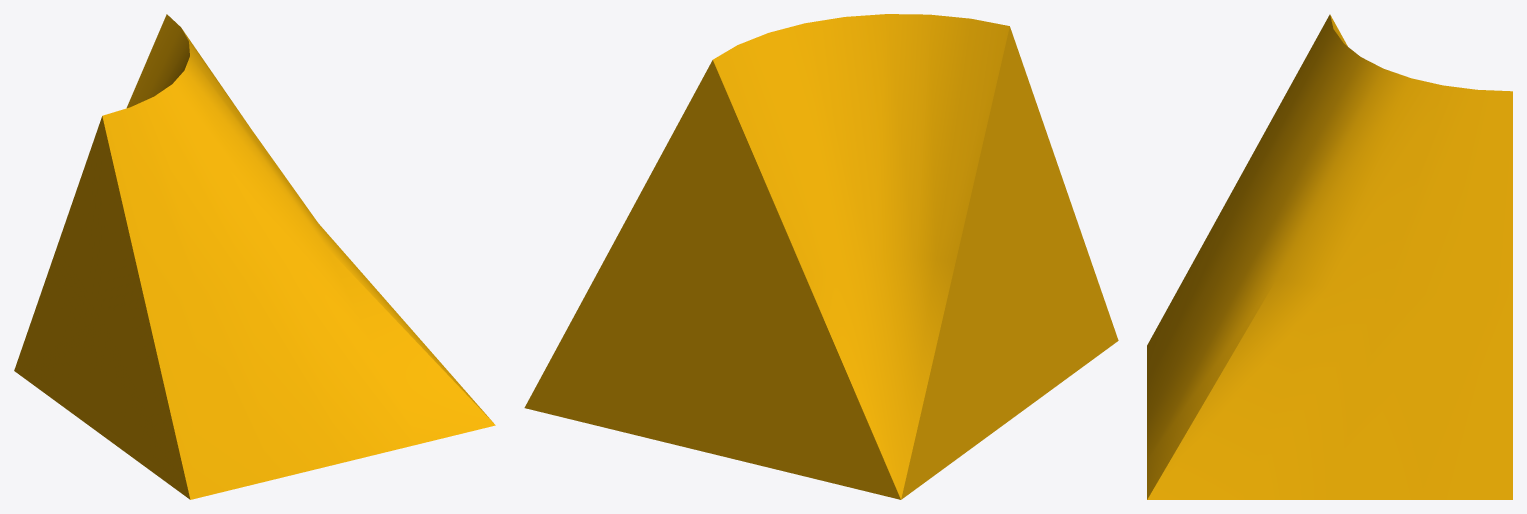
File: Quarter_Circle_Horizontal.fbx
3 views of the same model, side by side, from view 1: azimuth 30°, elevation 25°; view 2: azimuth 150°, elevation 25°; view 3: azimuth 270°, elevation 25° (orthographic). The views are drawn at different scales.
Parts seen in each view (by area): view 1: Quarter_Circle_Horizontal; view 2: Quarter_Circle_Horizontal; view 3: Quarter_Circle_Horizontal.
Part boxes in pixels (left/top/right/bottom): Quarter_Circle_Horizontal: left=14, top=14, right=495, bottom=499; Quarter_Circle_Horizontal: left=524, top=14, right=1118, bottom=499; Quarter_Circle_Horizontal: left=1147, top=14, right=1512, bottom=499.
Bounding box in the file's own units: 1 × 1 × 1.
